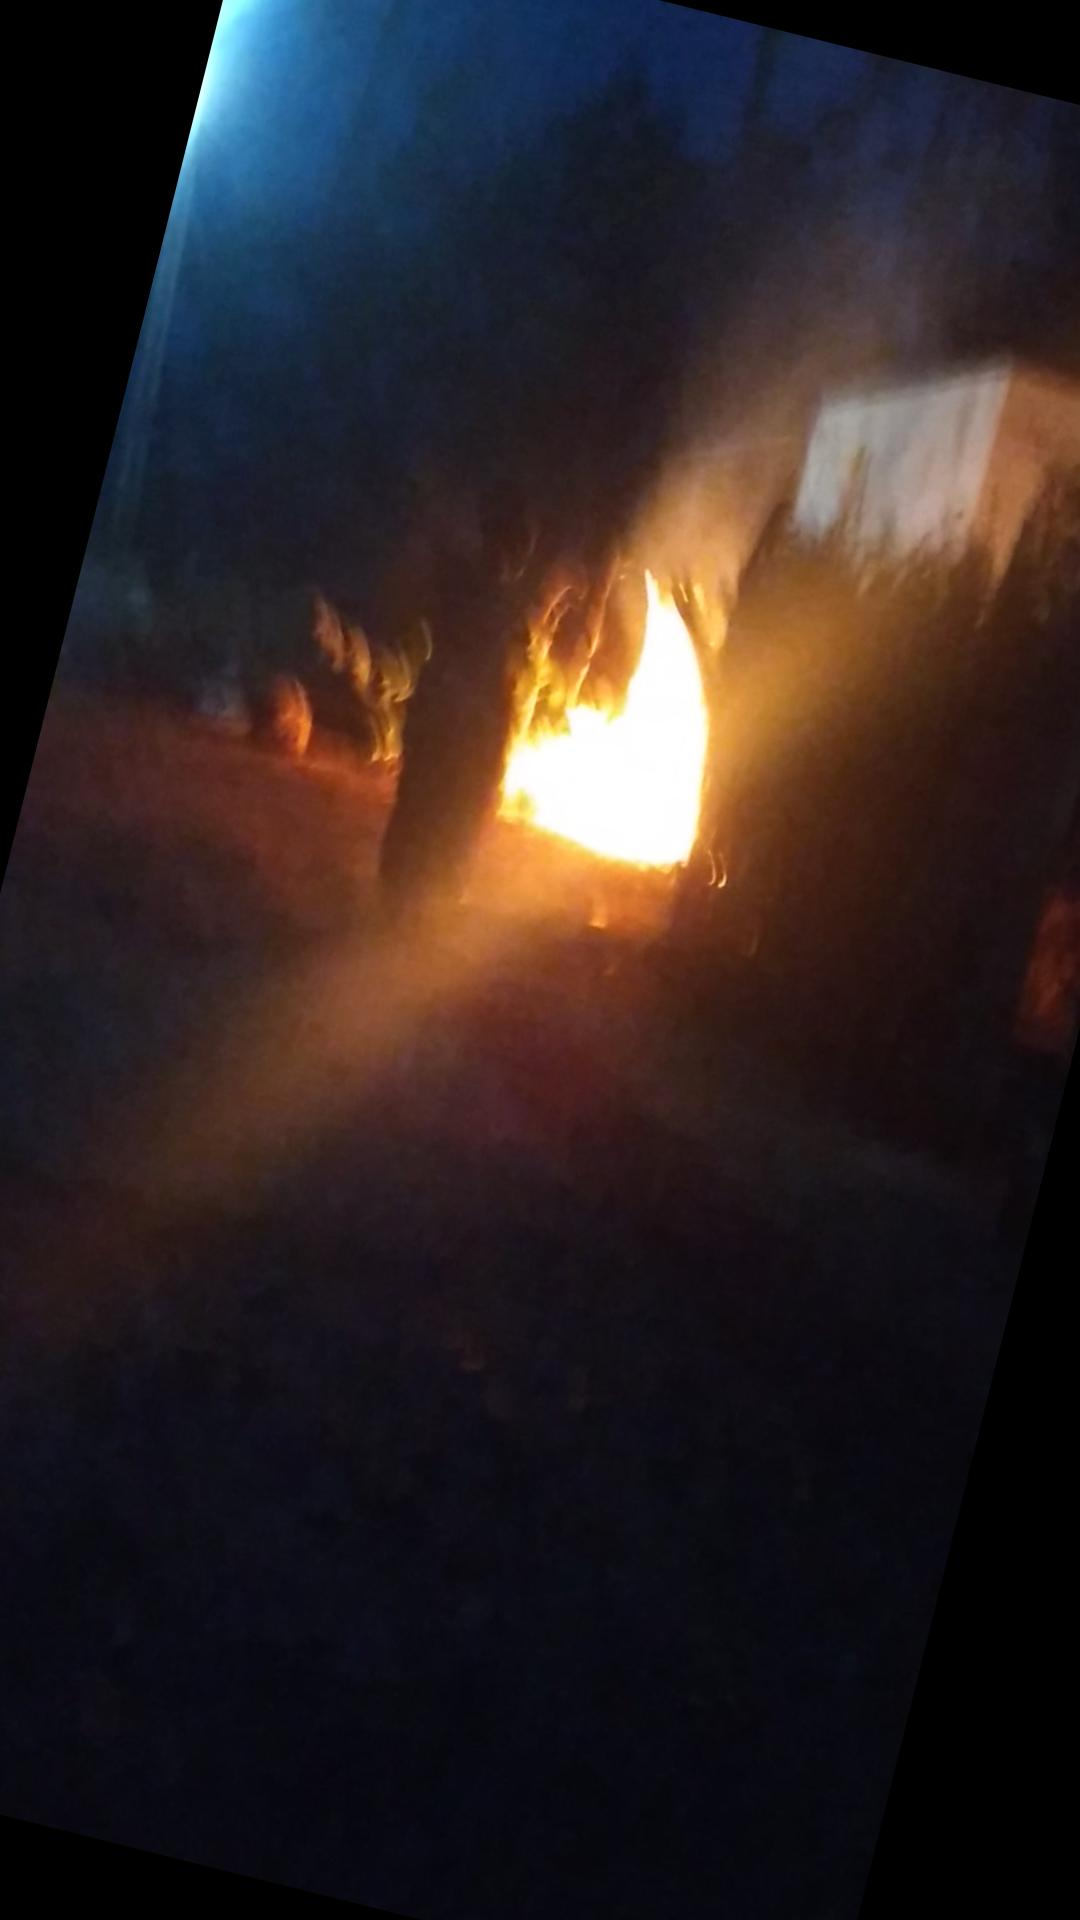Fire: (479, 538, 766, 886)
